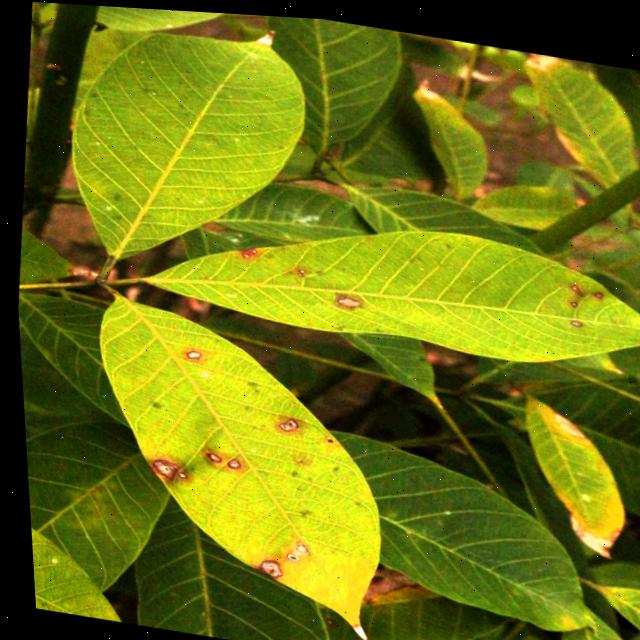Colletotrichum: (250, 554, 277, 574), (273, 412, 293, 428), (181, 346, 198, 358), (220, 454, 236, 466), (199, 449, 216, 460), (278, 549, 293, 557), (289, 539, 300, 549), (170, 468, 182, 476), (566, 312, 579, 319), (589, 283, 600, 290), (566, 292, 575, 299), (239, 249, 247, 255)
Leaf-Blight: (343, 619, 360, 635)
